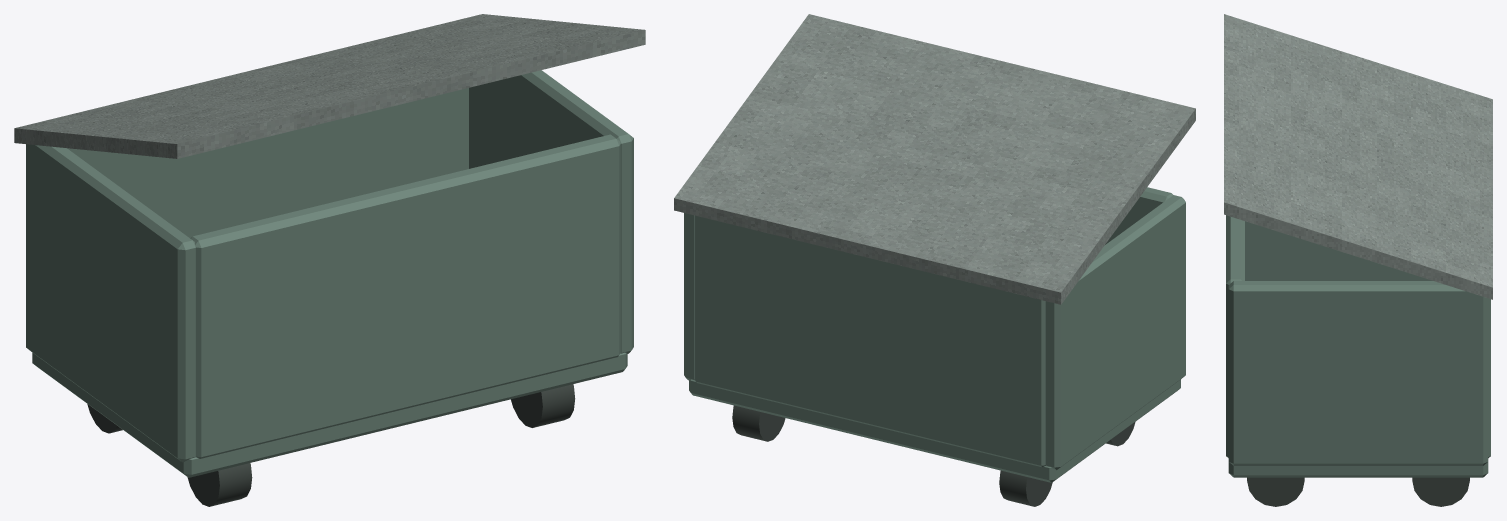
File: 017_open_waste_container.glb
The picture shows the model from 3 angles, left to right: view 1: azimuth 30°, elevation 25°; view 2: azimuth 150°, elevation 25°; view 3: azimuth 270°, elevation 25°; orthographic projection. The views are drawn at different scales.
Parts seen in each view (by area): view 1: PRP-017_body, Open_container_lid, PRP-017_wheels; view 2: PRP-017_body, Open_container_lid, PRP-017_wheels; view 3: PRP-017_body, Open_container_lid, PRP-017_wheels.
Part boxes in pixels (left/top/right/bottom): PRP-017_body: left=26, top=70, right=633, bottom=477; Open_container_lid: left=14, top=14, right=645, bottom=158; PRP-017_wheels: left=87, top=384, right=575, bottom=506; PRP-017_body: left=684, top=187, right=1185, bottom=482; Open_container_lid: left=674, top=14, right=1195, bottom=304; PRP-017_wheels: left=732, top=405, right=1135, bottom=506; PRP-017_body: left=1226, top=215, right=1490, bottom=477; Open_container_lid: left=1224, top=14, right=1492, bottom=299; PRP-017_wheels: left=1247, top=477, right=1469, bottom=506.
Bounding box in the file's own units: 2.32 × 1.88 × 1.4.
Materials: 4 (1 with a texture image).
